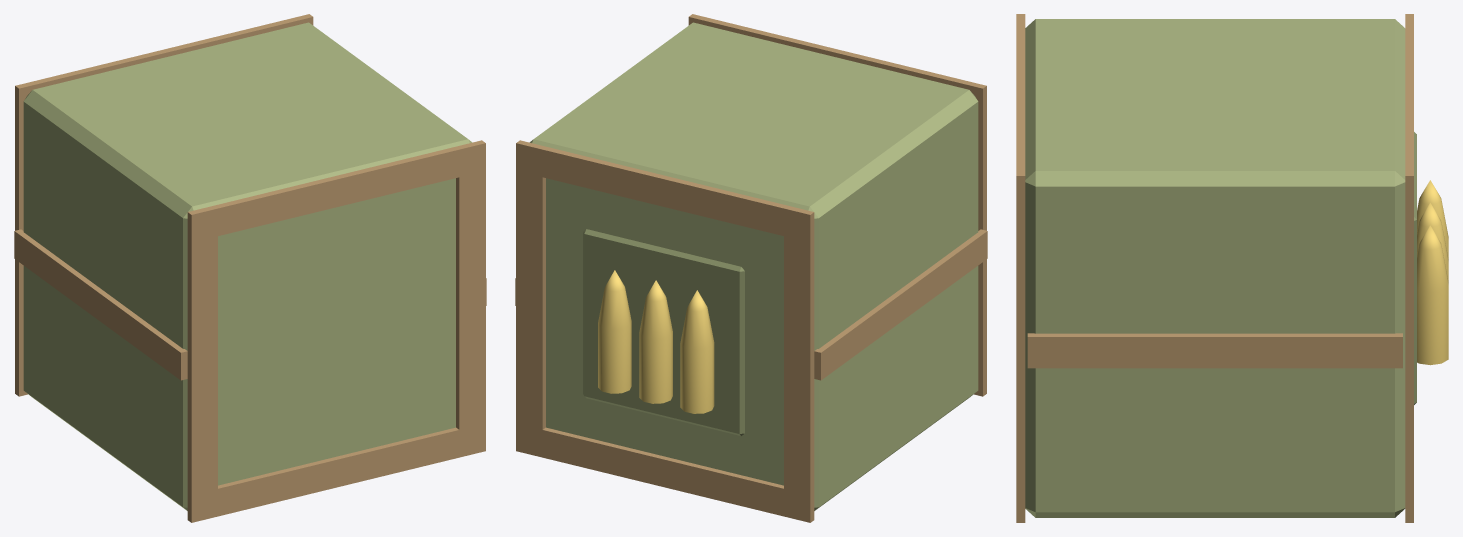
File: AmmoCrate.fbx
3 views of the same model, side by side, from view 1: azimuth 30°, elevation 25°; view 2: azimuth 150°, elevation 25°; view 3: azimuth 270°, elevation 25° (orthographic). The views are drawn at different scales.
Parts seen in each view (by area): view 1: AmmoCrate; view 2: AmmoCrate; view 3: AmmoCrate.
Part boxes in pixels (left/top/right/bottom): AmmoCrate: left=14, top=14, right=486, bottom=522; AmmoCrate: left=515, top=14, right=987, bottom=522; AmmoCrate: left=1016, top=14, right=1448, bottom=522.
Bounding box in the file's own units: 1.35 × 1.3 × 1.47.
